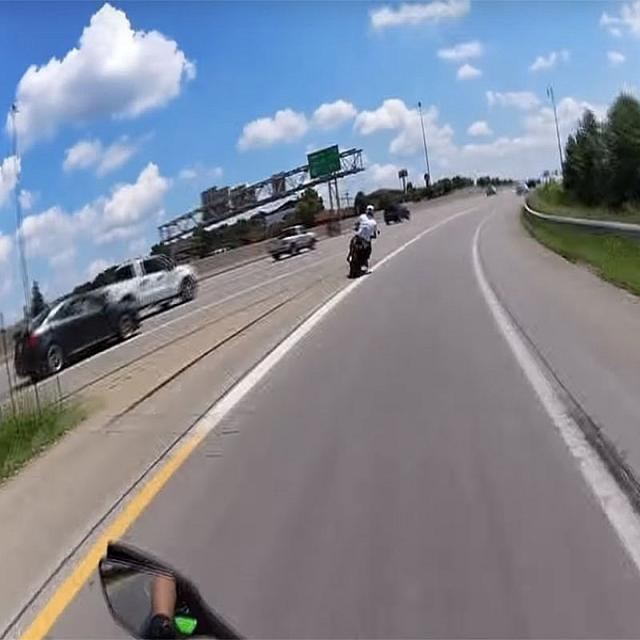CMT: (94, 256, 195, 302), (268, 224, 316, 254)
MOTORCYCLE: (348, 228, 376, 273)
